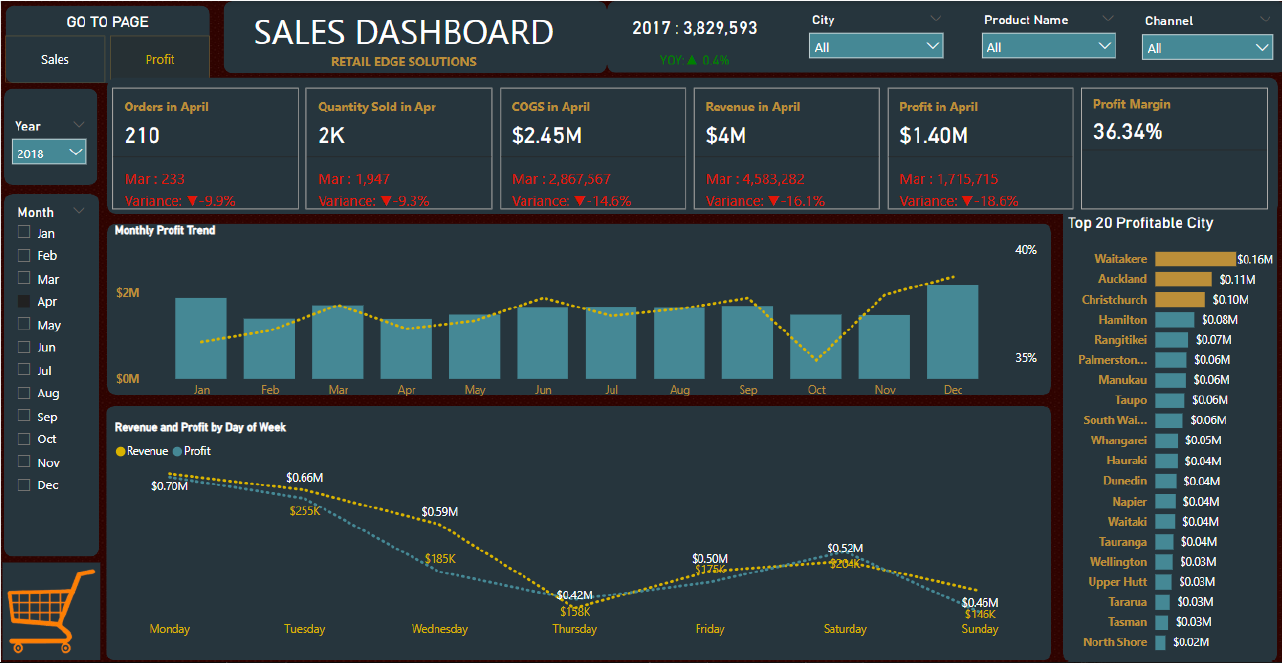

What the dashboard file says about the page in this screenshot:
{"tool":"powerbi","page":{"name":"Profit","canvas":[1400,720],"ordinal":1},"visuals":[{"type":"shape","box":[695.6,6.6,703.9,74.5],"z":0},{"type":"shape","box":[3.3,92.7,1396.1,139.1],"z":1000},{"type":"shape","box":[0,231.9,139.1,488.6],"z":2000},{"type":"shape","box":[144.1,231.9,997,240.1],"z":3000},{"type":"shape","box":[1156,231.9,243.5,488.6],"z":4000},{"type":"shape","box":[144.1,486.9,997,233.5],"z":5000},{"type":"cardVisual","fields":{"Data":["Calculations.Total Orders","Calculations.Qty Ordered","Calculations.Revenue","Calculations.COGS","Calculations.Profit","Calculations.Profit Margin"]},"box":[3.3,92.7,1396.1,139.1],"z":6000},{"type":"slicer","fields":{"Values":["Dim_Calender.Month Name"]},"box":[0,235.2,132.5,485.3],"z":7000},{"type":"lineStackedColumnComboChart","title":"Monthly Profit Trend","fields":{"Category":["Dim_Calender.Month Name"],"Y":["Calculations.Profit"],"Y2":["Calculations.Profit Margin"]},"box":[147.4,235.2,993.7,236.8],"z":8000},{"type":"barChart","title":"Top 20 Profitable City","fields":{"Category":["Dim_Region.City"],"Y":["Calculations.Profit"]},"box":[1155.4,231.5,243.9,487.8],"z":9000},{"type":"lineChart","title":"Revenue and Profit by Day of the Week","fields":{"Category":["Dim_Calender.Day of Week"],"Y":["Calculations.Revenue"],"Y2":["Calculations.Profit"]},"box":[147.4,486.9,993.7,233.5],"z":10000},{"type":"shape","box":[281.5,6.6,390.9,74.5],"z":11000},{"type":"textbox","box":[281.5,0,409.1,81.2],"z":12000},{"type":"shape","box":[3.3,8.3,268.3,74.5],"z":13000},{"type":"pageNavigator","title":"GO TO PAGE","box":[3.3,5,268.3,76.2],"z":14000},{"type":"slicer","fields":{"Values":["Dim_Calender.Year"]},"box":[695.6,5,175.6,76.2],"z":15000},{"type":"slicer","fields":{"Values":["Dim_Region.City"]},"box":[871.1,3.3,168.9,79.5],"z":16000},{"type":"slicer","fields":{"Values":["Dim_Product.Product Name"]},"box":[1035.1,5,168.9,77.8],"z":17000},{"type":"slicer","fields":{"Values":["Fact_Order.Channel"]},"box":[1217.3,5,159,77.8],"z":18000}]}

Visuals, with their boxes in screenshot pixels (x1, y1, x2, y2), scaled from the page's 1400x720 canvas onto the 1282x663 screenshot:
shape: crop(637, 6, 1281, 75)
shape: crop(3, 85, 1281, 213)
shape: crop(0, 214, 127, 662)
shape: crop(132, 214, 1045, 435)
shape: crop(1059, 214, 1281, 662)
shape: crop(132, 448, 1045, 662)
cardVisual - Calculations.Total Orders x Calculations.Qty Ordered: crop(3, 85, 1281, 213)
slicer - Dim_Calender.Month Name: crop(0, 217, 121, 662)
"Monthly Profit Trend" lineStackedColumnComboChart: crop(135, 217, 1045, 435)
"Top 20 Profitable City" barChart: crop(1058, 213, 1281, 662)
"Revenue and Profit by Day of the Week" lineChart: crop(135, 448, 1045, 662)
shape: crop(258, 6, 616, 75)
textbox: crop(258, 0, 632, 75)
shape: crop(3, 8, 249, 76)
"GO TO PAGE" pageNavigator: crop(3, 5, 249, 75)
slicer - Dim_Calender.Year: crop(637, 5, 798, 75)
slicer - Dim_Region.City: crop(798, 3, 952, 76)
slicer - Dim_Product.Product Name: crop(948, 5, 1103, 76)
slicer - Fact_Order.Channel: crop(1115, 5, 1260, 76)
